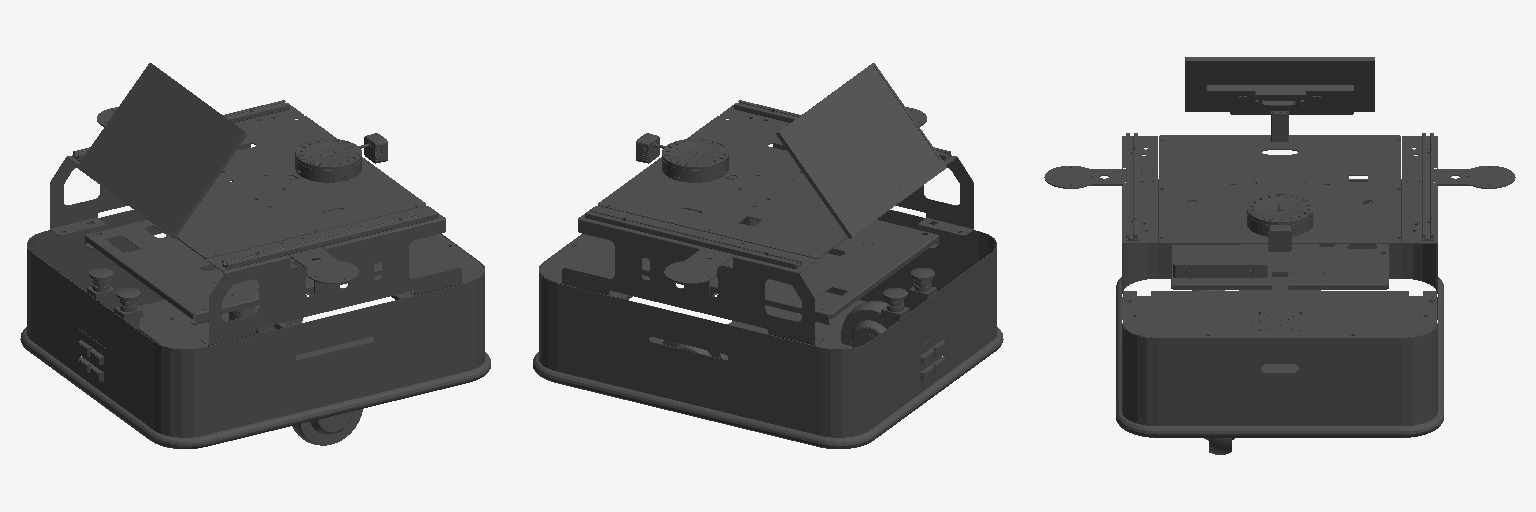
URDF robot description (lucsys_lsv550_mec):
<?xml version="1.0" encoding="utf-8"?>
<robot name="lucsys_lsv550_mec">
  <link name="base_link">
    <inertial>
      <origin xyz="-0.00658271210809724 0.000569960640804681 0.0414948422314003" rpy="0 0 0" />
      <mass value="0.486844981490714" />
      <inertia ixx="0.000728879704405369" ixy="-1.95581978182495E-06" ixz="1.38866314723912E-05" iyy="0.00137349892998219" iyz="1.27363604508813E-06" izz="0.00198018890840461" />
    </inertial>
    <visual>
      <origin xyz="0 0 0" rpy="0 0 0" />
      <geometry>
        <mesh filename="package://lucsys_lsv550_description/meshes/lsv550_mec/base_link.STL" />
      </geometry>
      <material name="lucsys_material_0">
        <color rgba="0.349019607843137 0.349019607843137 0.349019607843137 1" />
      </material>
    </visual>
    <collision>
      <origin xyz="0 0 0" rpy="0 0 0" />
      <geometry>
        <mesh filename="package://lucsys_lsv550_description/meshes/lsv550_mec/base_link.STL" />
      </geometry>
    </collision>
  </link>
  <link name="lf_wheel_link">
    <inertial>
      <origin xyz="-7.70853984810582E-10 -0.00391716682736307 -1.4561503738908E-10" rpy="0 0 0" />
      <mass value="0.0575555911293518" />
      <inertia ixx="2.10755821421772E-05" ixy="-2.16920667058315E-13" ixz="-1.66749355467763E-13" iyy="3.40216676430615E-05" iyz="-3.16177321306463E-14" izz="2.10755819831363E-05" />
    </inertial>
    <visual>
      <origin xyz="0 0 0" rpy="0 0 0" />
      <geometry>
        <mesh filename="package://lucsys_lsv550_description/meshes/lsv550_mec/lf_wheel_link.STL" />
      </geometry>
      <material name="lucsys_material_1">
        <color rgba="0.376470588235294 0.376470588235294 0.376470588235294 1" />
      </material>
    </visual>
    <collision>
      <origin xyz="0 0 0" rpy="0 0 0" />
      <geometry>
        <mesh filename="package://lucsys_lsv550_description/meshes/lsv550_mec/lf_wheel_link.STL" />
      </geometry>
    </collision>
  </link>
  <joint name="lf_wheel_joint" type="continuous">
    <origin xyz="0.0759419119540792 0.0983014469516561 0.0167" rpy="0 0 0" />
    <parent link="base_link" />
    <child link="lf_wheel_link" />
    <axis xyz="0 -1 0" />
  </joint>
  <link name="lb_wheel_link">
    <inertial>
      <origin xyz="8.27298508865315E-09 -0.00391801534011008 2.33900100711504E-08" rpy="0 0 0" />
      <mass value="0.0575546594328681" />
      <inertia ixx="2.10751269181675E-05" ixy="-1.20264905096543E-12" ixz="-7.94357439958831E-12" iyy="3.40209427021929E-05" iyz="5.32083294576981E-12" izz="2.10751450994036E-05" />
    </inertial>
    <visual>
      <origin xyz="0 0 0" rpy="0 0 0" />
      <geometry>
        <mesh filename="package://lucsys_lsv550_description/meshes/lsv550_mec/lb_wheel_link.STL" />
      </geometry>
      <material name="lucsys_material_2">
        <color rgba="0.376470588235294 0.376470588235294 0.376470588235294 1" />
      </material>
    </visual>
    <collision>
      <origin xyz="0 0 0" rpy="0 0 0" />
      <geometry>
        <mesh filename="package://lucsys_lsv550_description/meshes/lsv550_mec/lb_wheel_link.STL" />
      </geometry>
    </collision>
  </link>
  <joint name="lb_wheel_joint" type="continuous">
    <origin xyz="-0.0816580880459208 0.0983054469516561 0.0167" rpy="0 0 0" />
    <parent link="base_link" />
    <child link="lb_wheel_link" />
    <axis xyz="0 1 0" />
  </joint>
  <link name="rb_wheel_link">
    <inertial>
      <origin xyz="7.24978507782303E-10 0.00391716682736308 2.99709913137436E-10" rpy="0 0 0" />
      <mass value="0.0575555911293519" />
      <inertia ixx="2.10755819418964E-05" ixy="-1.98892413173438E-13" ixz="1.39806284049536E-13" iyy="3.40216676430614E-05" iyz="-9.21741113361527E-14" izz="2.10755821834171E-05" />
    </inertial>
    <visual>
      <origin xyz="0 0 0" rpy="0 0 0" />
      <geometry>
        <mesh filename="package://lucsys_lsv550_description/meshes/lsv550_mec/rb_wheel_link.STL" />
      </geometry>
      <material name="lucsys_material_3">
        <color rgba="0.376470588235294 0.376470588235294 0.376470588235294 1" />
      </material>
    </visual>
    <collision>
      <origin xyz="0 0 0" rpy="0 0 0" />
      <geometry>
        <mesh filename="package://lucsys_lsv550_description/meshes/lsv550_mec/rb_wheel_link.STL" />
      </geometry>
    </collision>
  </link>
  <joint name="rb_wheel_joint" type="continuous">
    <origin xyz="-0.0816580880459208 -0.0982745530483439 0.0167" rpy="0 0 0" />
    <parent link="base_link" />
    <child link="rb_wheel_link" />
    <axis xyz="0 1 0" />
  </joint>
  <link name="rf_wheel_link">
    <inertial>
      <origin xyz="-2.03118767638788E-08 0.00391801536357496 1.47898364041832E-08" rpy="0 0 0" />
      <mass value="0.0575546595056713" />
      <inertia ixx="2.10751249334216E-05" ixy="1.27911217452893E-12" ixz="-5.19497190132298E-12" iyy="3.40209423643432E-05" iyz="-5.39837364479759E-12" izz="2.1075146790306E-05" />
    </inertial>
    <visual>
      <origin xyz="0 0 0" rpy="0 0 0" />
      <geometry>
        <mesh filename="package://lucsys_lsv550_description/meshes/lsv550_mec/rf_wheel_link.STL" />
      </geometry>
      <material name="lucsys_material_4">
        <color rgba="0.376470588235294 0.376470588235294 0.376470588235294 1" />
      </material>
    </visual>
    <collision>
      <origin xyz="0 0 0" rpy="0 0 0" />
      <geometry>
        <mesh filename="package://lucsys_lsv550_description/meshes/lsv550_mec/rf_wheel_link.STL" />
      </geometry>
    </collision>
  </link>
  <joint name="rf_wheel_joint" type="continuous">
    <origin xyz="0.0759419119540792 -0.0982785530483439 0.0167" rpy="0 0 0" />
    <parent link="base_link" />
    <child link="rf_wheel_link" />
    <axis xyz="0 -1 0" />
  </joint>
  <link name="camera_link">
    <inertial>
      <origin xyz="-4.45004837215657E-08 -3.25846249904076E-07 -0.0139995077279642" rpy="0 0 0" />
      <mass value="0.0285970249307156" />
      <inertia ixx="2.49063659552752E-05" ixy="1.41446622396731E-09" ixz="-3.44746104888009E-07" iyy="8.10339394659798E-06" iyz="8.7411817335606E-09" izz="1.91138588188251E-05" />
    </inertial>
    <visual>
      <origin xyz="0 0 0" rpy="0 0 0" />
      <geometry>
        <mesh filename="package://lucsys_lsv550_description/meshes/lsv550_mec/camera_link.STL" />
      </geometry>
      <material name="lucsys_material_5">
        <color rgba="1 1 1 1" />
      </material>
    </visual>
    <collision>
      <origin xyz="0 0 0" rpy="0 0 0" />
      <geometry>
        <mesh filename="package://lucsys_lsv550_description/meshes/lsv550_mec/camera_link.STL" />
      </geometry>
    </collision>
  </link>
  <joint name="camera_joint" type="fixed">
    <origin xyz="0.00160091195407919 -0.00010055304834393 0.152137" rpy="0 0 0" />
    <parent link="base_link" />
    <child link="camera_link" />
    <axis xyz="0 0 0" />
  </joint>
  <link name="laser_link">
    <inertial>
      <origin xyz="0.000735465990626988 2.79287293896135E-07 -0.00549379656778799" rpy="0 0 0" />
      <mass value="0.000111381912632097" />
      <inertia ixx="8.09810255937586E-10" ixy="2.48436925682356E-14" ixz="-2.38955091202816E-14" iyy="8.09668177063905E-10" iyz="-2.28917457095815E-15" izz="1.17057115150887E-10" />
    </inertial>
    <visual>
      <origin xyz="0 0 0" rpy="0 0 0" />
      <geometry>
        <mesh filename="package://lucsys_lsv550_description/meshes/lsv550_mec/laser.STL" />
      </geometry>
      <material name="lucsys_material_6">
        <color rgba="0.376470588235294 0.376470588235294 0.376470588235294 1" />
      </material>
    </visual>
    <collision>
      <origin xyz="0 0 0" rpy="0 0 0" />
      <geometry>
        <mesh filename="package://lucsys_lsv550_description/meshes/lsv550_mec/laser.STL" />
      </geometry>
    </collision>
  </link>
  <joint name="laser_joint" type="fixed">
    <origin xyz="0.0834767944381037 1.32296970929568E-05 0.09655" rpy="0 0 0" />
    <parent link="base_link" />
    <child link="laser_link" />
    <axis xyz="0 0 0" />
  </joint>
  <link name="controller_link">
    <inertial>
      <origin xyz="-0.0254318317483443 0.0178325189887231 0.0120915107345509" rpy="0 0 0" />
      <mass value="0.0371650711916722" />
      <inertia ixx="2.75273128086897E-05" ixy="-4.90416948087793E-07" ixz="-8.95619686706703E-08" iyy="1.08853888864562E-05" iyz="3.79055088929114E-07" izz="3.7257082402319E-05" />
    </inertial>
    <visual>
      <origin xyz="0 0 0" rpy="0 0 0" />
      <geometry>
        <mesh filename="package://lucsys_lsv550_description/meshes/lsv550_mec/controller_link.STL" />
      </geometry>
      <material name="lucsys_material_7">
        <color rgba="1 1 1 1" />
      </material>
    </visual>
    <collision>
      <origin xyz="0 0 0" rpy="0 0 0" />
      <geometry>
        <mesh filename="package://lucsys_lsv550_description/meshes/lsv550_mec/controller_link.STL" />
      </geometry>
    </collision>
  </link>
  <joint name="controller_joint" type="fixed">
    <origin xyz="-0.0539080491826598 -0.011432266551253 0.1135" rpy="0 0 0" />
    <parent link="base_link" />
    <child link="controller_link" />
    <axis xyz="0 0 0" />
  </joint>
</robot>

--- Render facts (derived) ---
3 views of the same robot in one strip: view 1: azimuth 30°, elevation 25°; view 2: azimuth 150°, elevation 25°; view 3: azimuth 270°, elevation 25° (orthographic).
Model lucsys_lsv550_mec with 8 links and 7 joints (4 continuous, 3 fixed), rooted at base_link, posed every joint at zero.
Visible links, largest first — view 1: base_link, rf_wheel_link; view 2: base_link, rb_wheel_link; view 3: base_link.
Boxes of the visible links, <box> form: base_link: <box>20,63,490,448</box>; rf_wheel_link: <box>292,409,362,445</box>; base_link: <box>533,63,1003,448</box>; rb_wheel_link: <box>841,301,886,347</box>; base_link: <box>1044,57,1515,437</box>.
Bounding box of the posed robot: 0.64 × 0.7764 × 0.6307 m (x, y, z).
4 mesh visuals loaded from 8 distinct referenced files (4 binary STL); not drawn: 4 (reference not matched to a file when rendering).
